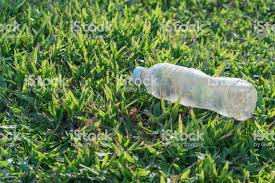plastic_bottle: (132, 63, 257, 120)
